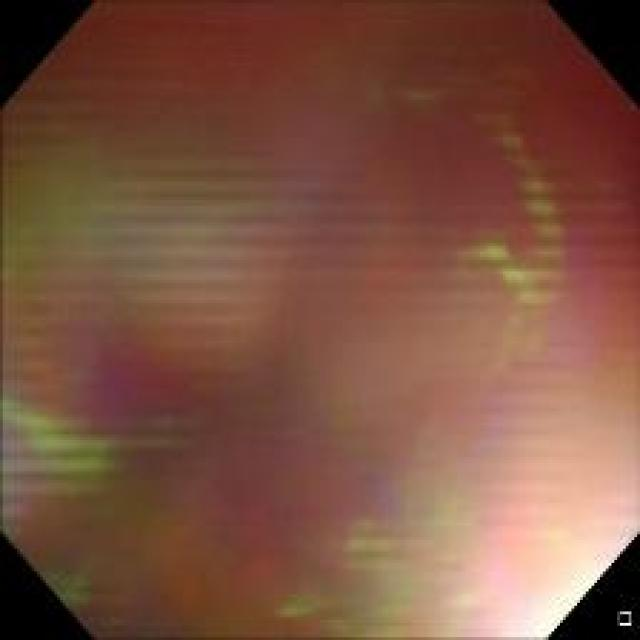color misalignment: (5, 5, 635, 634)
saturation: (486, 520, 629, 634)
